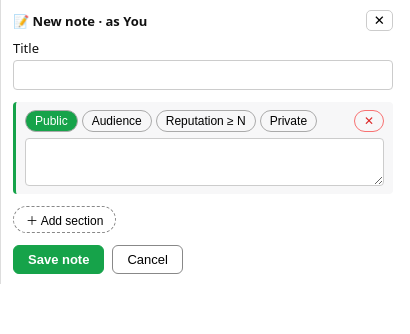
Test: blocks save with an empty title and shows an error
Type "x" into the text box named "section content" at (204, 162), box [25,138,384,186]
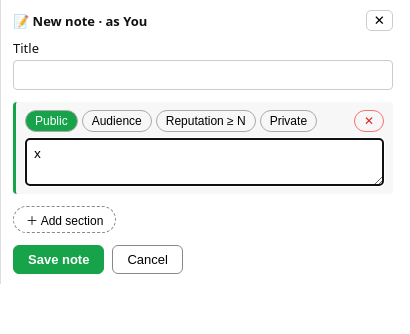
Click the button "Save note" at (59, 260), box [13,245,104,274]
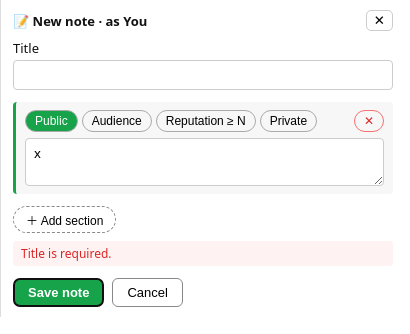
Check: the text "Title is required." is shown, box [13,241,393,266]
